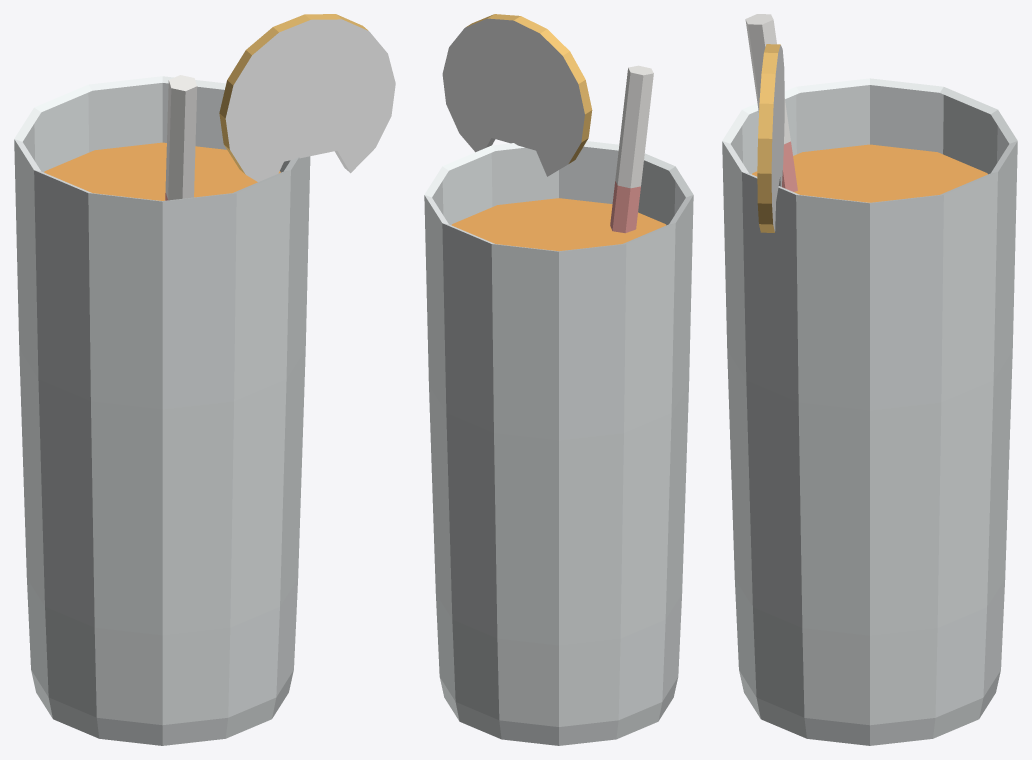
File: cocktails.glb
The picture shows the model from 3 angles, left to right: view 1: azimuth 30°, elevation 25°; view 2: azimuth 150°, elevation 25°; view 3: azimuth 270°, elevation 25°; orthographic projection. The views are drawn at different scales.
Visible parts, largest first — view 1: Sunrise__Glass, Sunrise__Garnish, Sunrise__Liquid; view 2: Sunrise__Glass, Sunrise__Garnish, Sunrise__Liquid; view 3: Sunrise__Glass, Sunrise__Liquid, Sunrise__Garnish.
Part boxes in pixels (<box>): Sunrise__Glass: <box>14,76,310,745</box>; Sunrise__Garnish: <box>165,14,395,200</box>; Sunrise__Liquid: <box>44,142,280,200</box>; Sunrise__Glass: <box>424,141,693,745</box>; Sunrise__Garnish: <box>442,14,653,232</box>; Sunrise__Liquid: <box>451,198,666,251</box>; Sunrise__Glass: <box>722,78,1017,745</box>; Sunrise__Liquid: <box>752,144,987,202</box>; Sunrise__Garnish: <box>745,14,797,232</box>.
Size of the model in its own units: 0.0839 by 0.1803 by 0.0704.
